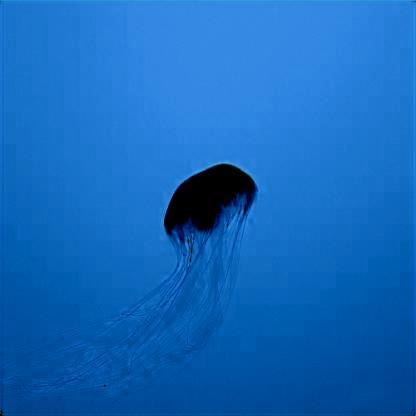Moon: (43, 165, 259, 380)
